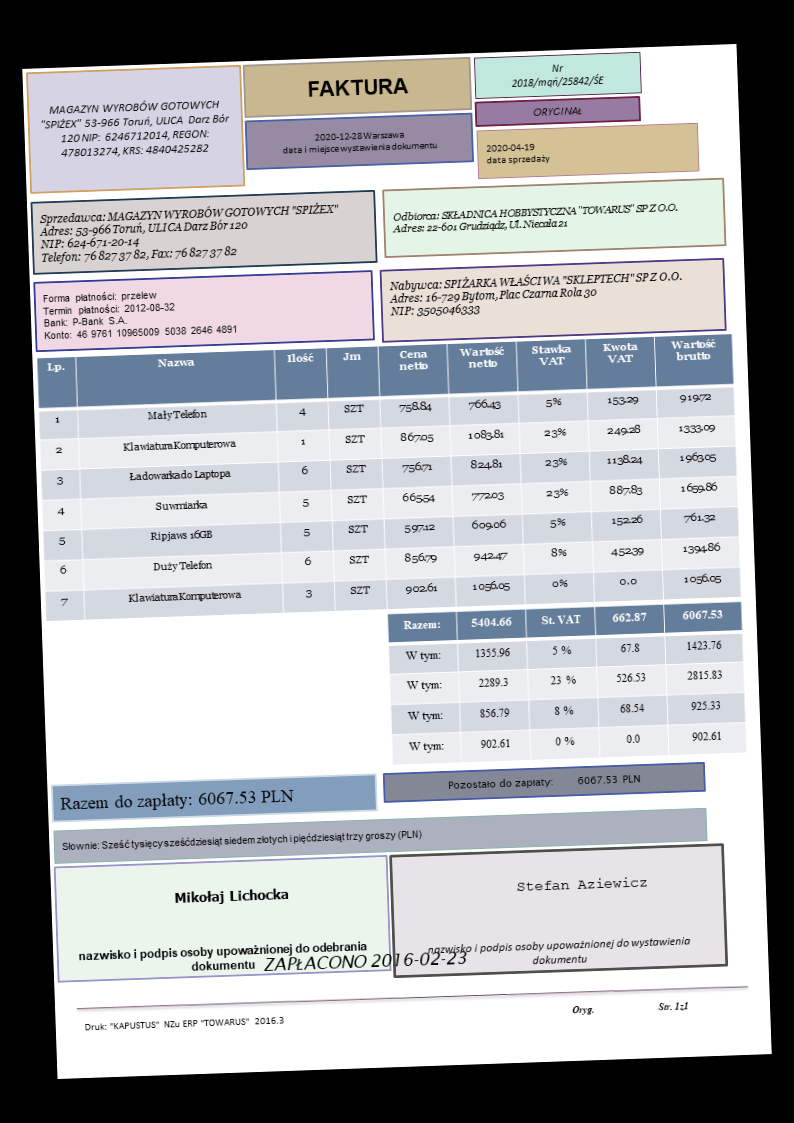Table: (35, 331, 743, 624), (385, 600, 747, 767)
TextBox: (37, 197, 343, 268), (387, 266, 686, 321), (38, 95, 232, 162), (40, 284, 240, 343), (75, 940, 367, 978), (389, 198, 679, 236), (60, 825, 423, 855), (426, 932, 693, 971), (57, 784, 297, 816), (263, 947, 473, 978), (278, 126, 440, 159), (81, 1011, 286, 1035), (445, 771, 643, 793), (171, 882, 292, 908), (508, 60, 605, 92), (514, 874, 650, 896), (305, 75, 411, 100), (482, 138, 552, 172), (569, 997, 692, 1016), (531, 102, 584, 121)
